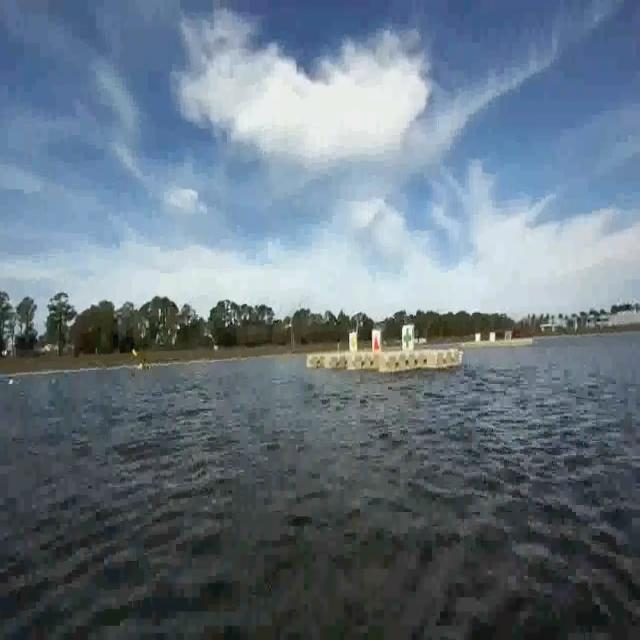blue-cross: (401, 326, 414, 352)
red-dot: (371, 329, 381, 354)
yellow-duck: (347, 334, 359, 359)
